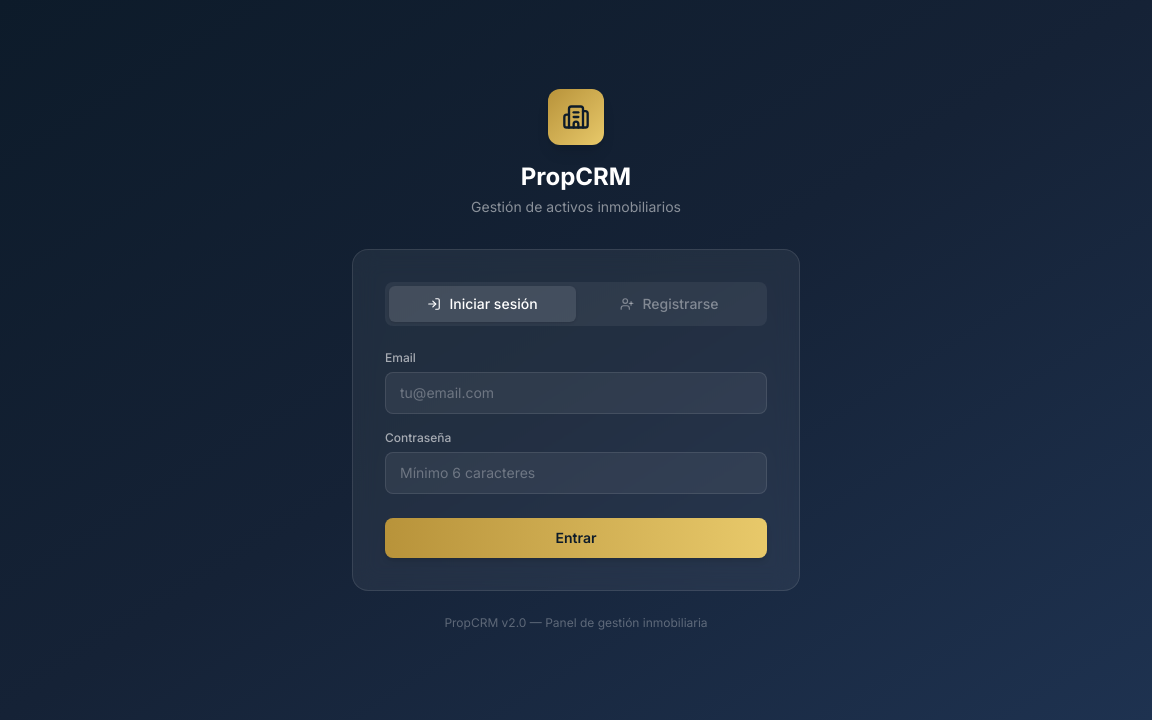
Test: LoginPage registration form › formats phone number dynamically as user types
Click the button "Registrarse".
click(670, 304)  # box [576, 286, 763, 322]
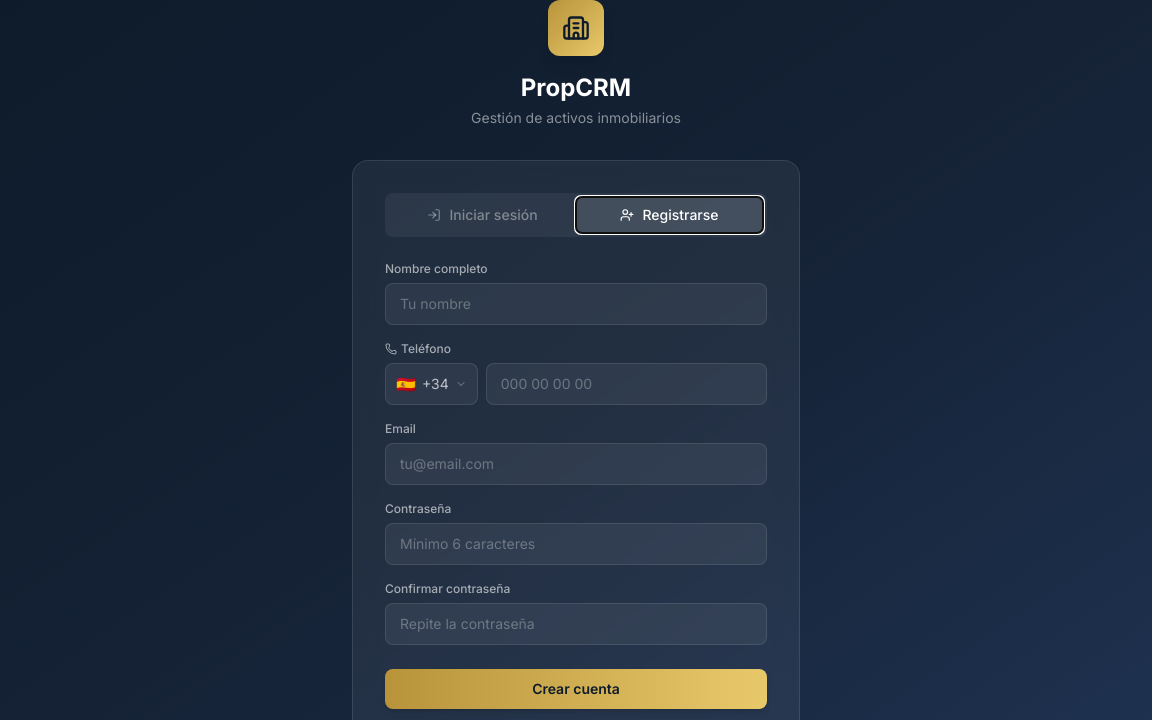
Type "612345678" into the field with placeholder "000 00 00 00".
click(626, 384); type("612345678")  # box [486, 363, 767, 405]
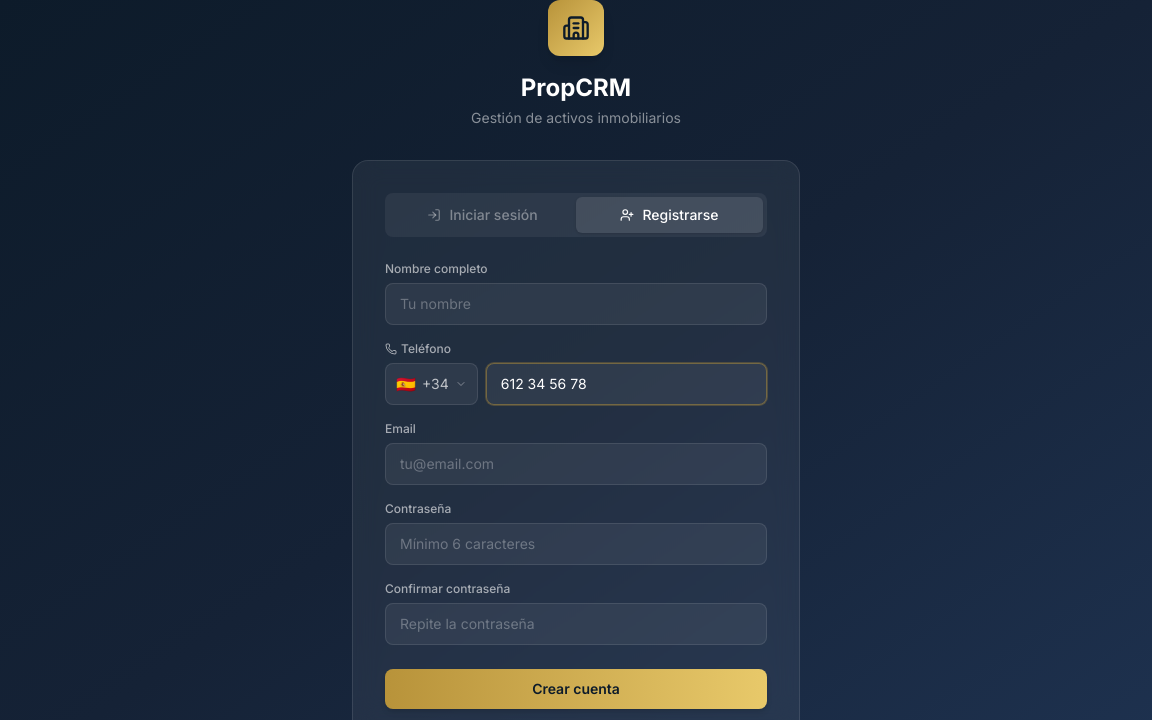
Expected: the field with placeholder "000 00 00 00" holds "612 34 56 78", [486, 363, 767, 405]
